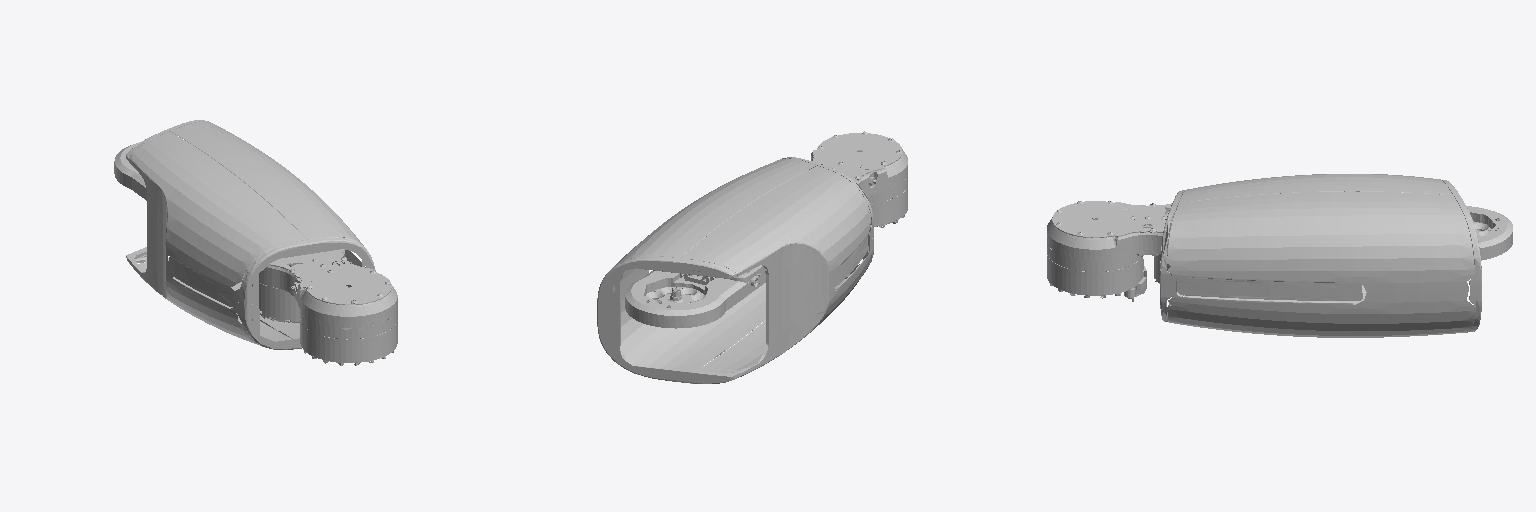
File: sim_ecub_l_lower_leg.obj
The picture shows the model from 3 angles: view 1: azimuth 30°, elevation 25°; view 2: azimuth 150°, elevation 25°; view 3: azimuth 270°, elevation 25°; orthographic projection.
Bounding box in the file's own units: 153 × 126 × 408.